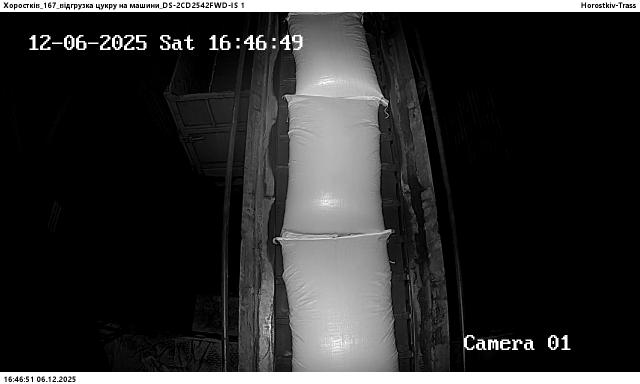bag: (278, 230, 399, 372), (282, 95, 386, 237), (288, 12, 387, 104)
